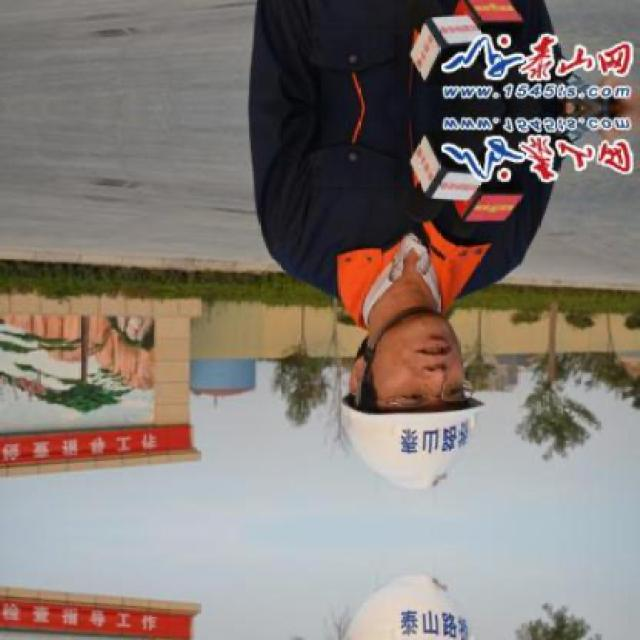con casco: (306, 222, 516, 495)
